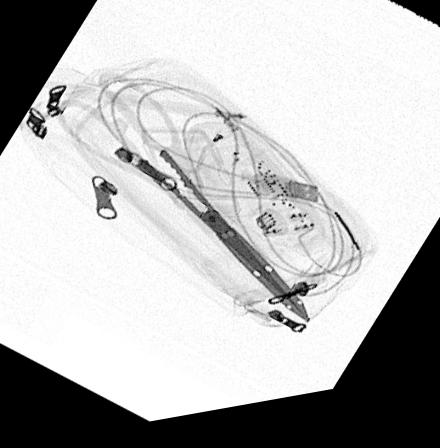Scissors: (49, 74, 313, 339)
